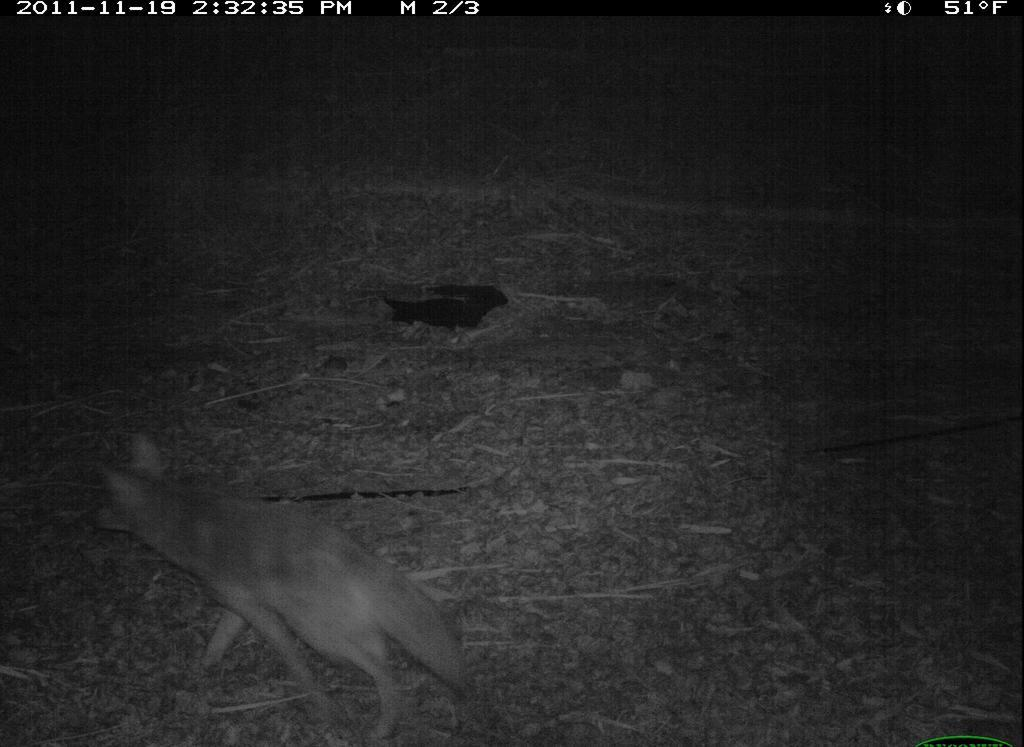coyote: (91, 433, 489, 745)
